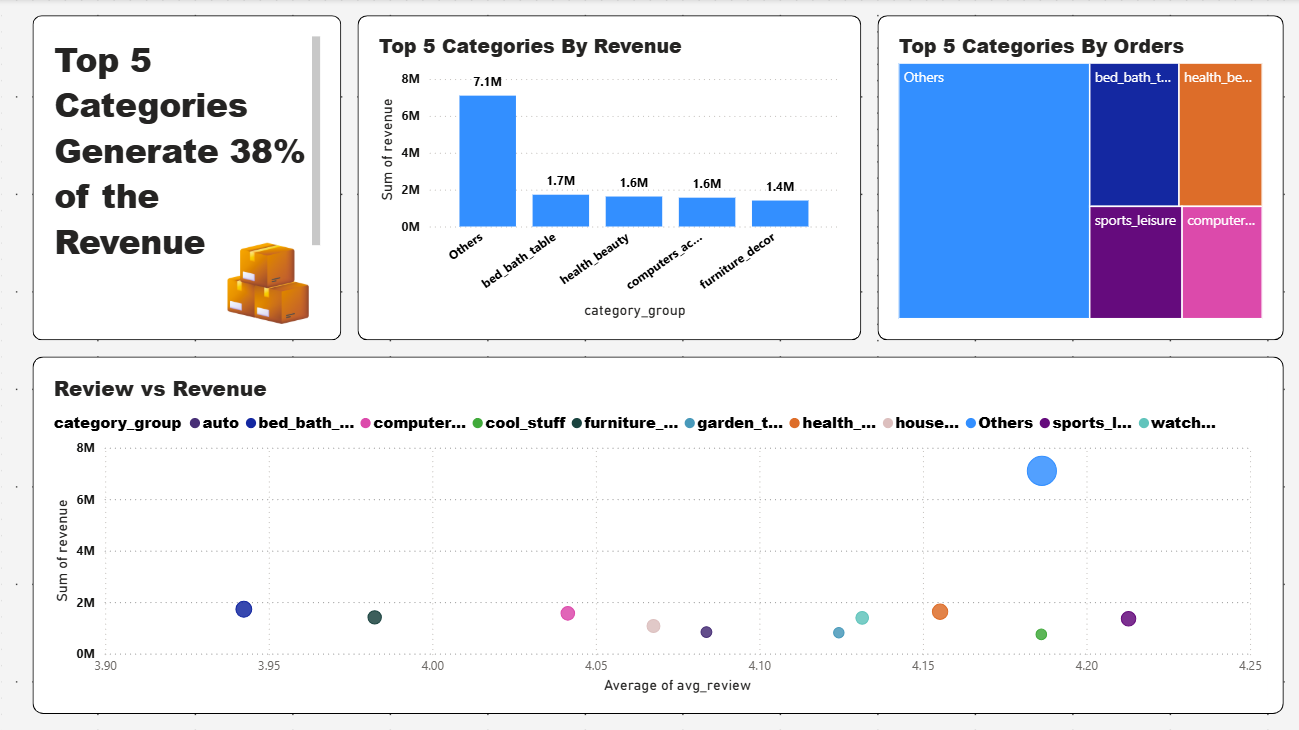

The page's visual inventory and layout, read from the dashboard file:
{"tool":"powerbi","page":{"name":"Product analysis","canvas":[1280,720],"ordinal":2},"visuals":[{"type":"shape","box":[864,16,400,320],"z":0},{"type":"shape","box":[352,16,496,320],"z":1000},{"type":"columnChart","title":"Top 5 Categories By  Revenue","fields":{"Y":["Sum(Query4.revenue)"],"Category":["Query4.category_group"]},"box":[368,32,464,288],"z":2000},{"type":"treemap","title":"Top 5 Categories By Orders","fields":{"Values":["Sum(Query4.orders)"],"Group":["Query4.category_group"]},"box":[880,32,368,288],"z":3000},{"type":"shape","box":[32,352,1232,352],"z":4000},{"type":"scatterChart","title":"Review vs Revenue","fields":{"X":["Avg(Query4.avg_review)"],"Y":["Sum(Query4.revenue)"],"Size":["Sum(Query4.orders)"],"Series":["Query4.category_group"]},"box":[48,368,1200,320],"z":5000},{"type":"shape","box":[32,16,304,320],"z":6000},{"type":"textbox","box":[48,32,272,224],"z":7000},{"type":"image","box":[208,240,112,80],"z":8000}]}

Visuals, with their boxes in screenshot pixels (x1, y1, x2, y2), scaled from the page's 1280x720 canvas onto the 1299x730 screenshot:
shape: crop(877, 16, 1283, 341)
shape: crop(357, 16, 861, 341)
"Top 5 Categories By  Revenue" columnChart: crop(373, 32, 844, 324)
"Top 5 Categories By Orders" treemap: crop(893, 32, 1267, 324)
shape: crop(32, 357, 1283, 714)
"Review vs Revenue" scatterChart: crop(49, 373, 1267, 698)
shape: crop(32, 16, 341, 341)
textbox: crop(49, 32, 325, 260)
image: crop(211, 243, 325, 324)
